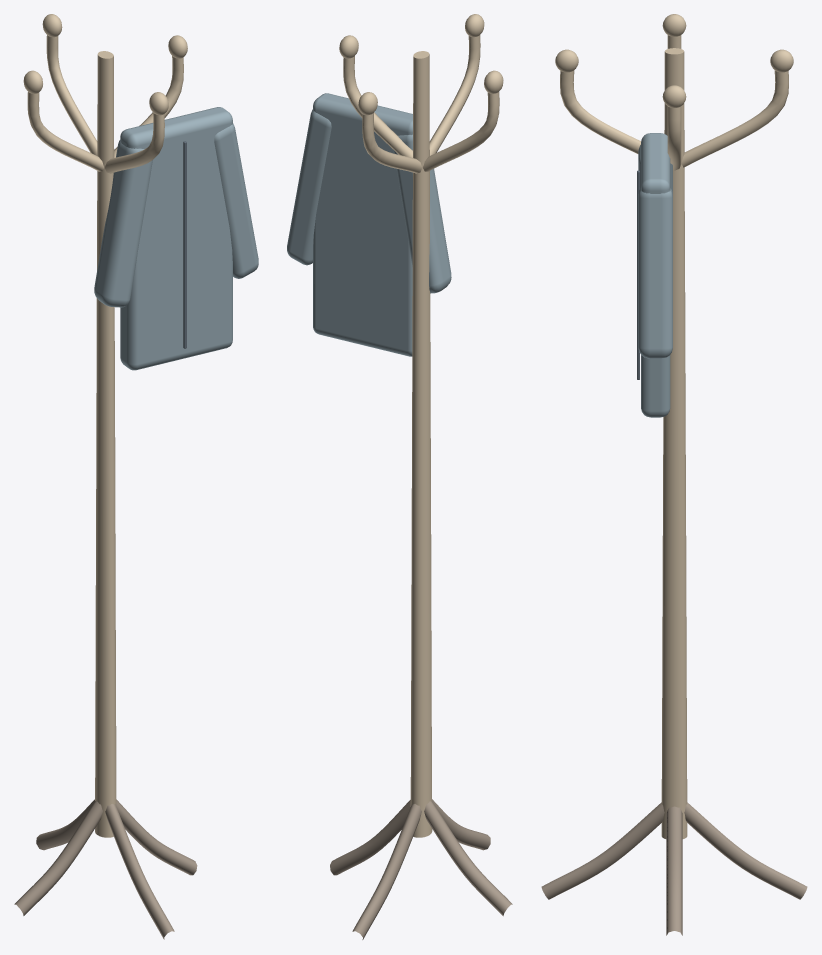
The model's file is coat-rack.glb.
The picture shows the model from 3 angles, left to right: view 1: azimuth 30°, elevation 25°; view 2: azimuth 150°, elevation 25°; view 3: azimuth 270°, elevation 25°; orthographic projection.
Parts seen in each view (by area): view 1: coat-rack; view 2: coat-rack; view 3: coat-rack.
Part boxes in pixels (bbox=[...]): coat-rack: bbox=[14, 14, 258, 939]; coat-rack: bbox=[287, 14, 512, 939]; coat-rack: bbox=[541, 14, 807, 935].
Bounding box in the file's own units: 0.5 × 1.76 × 0.5.
